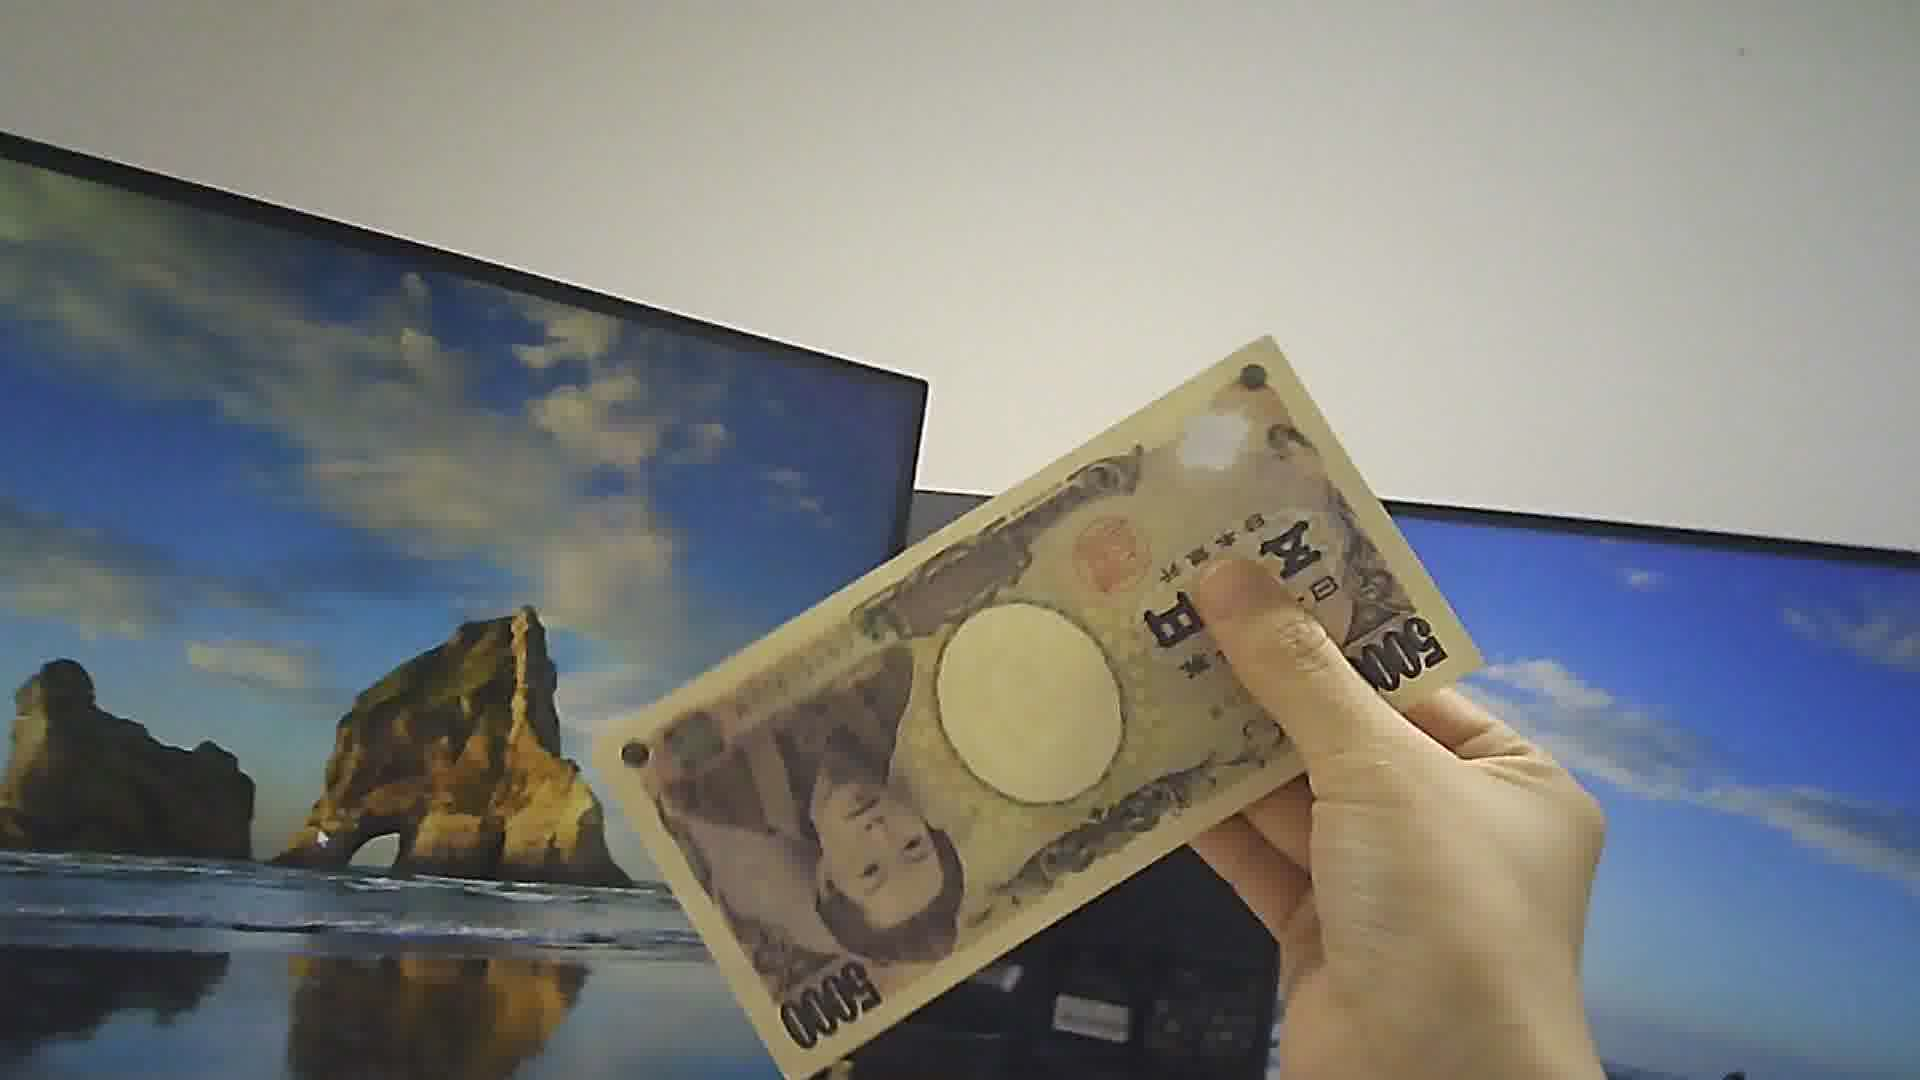5,000 Yen: (551, 338, 1501, 1060)
